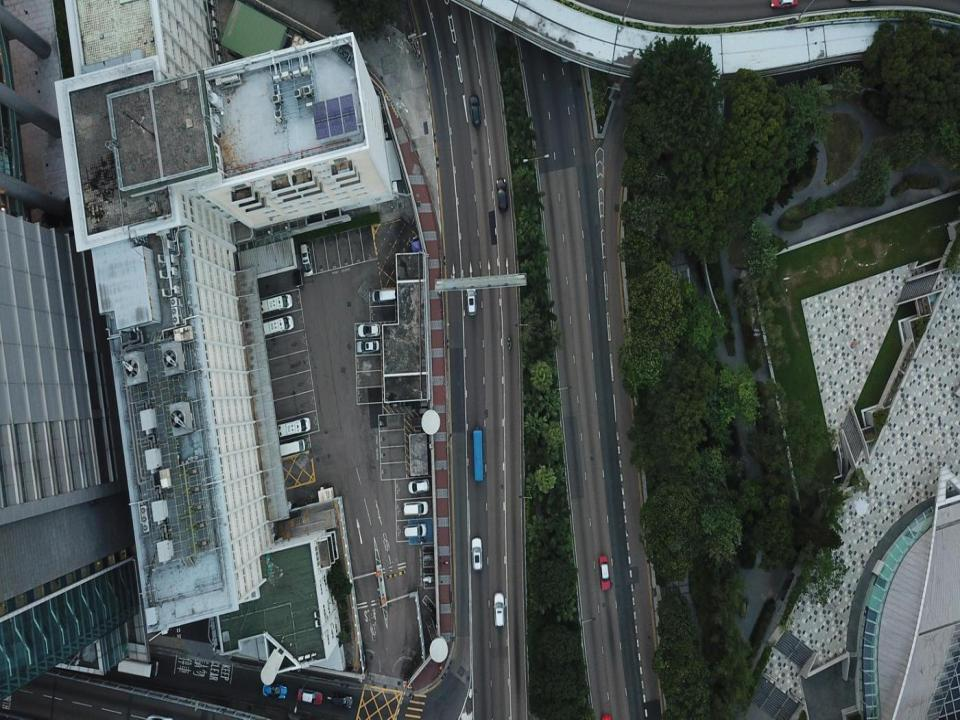bus: (472, 426, 486, 485)
car: (324, 690, 353, 710), (468, 92, 482, 131), (496, 175, 509, 213), (469, 537, 483, 571), (598, 555, 610, 592), (355, 324, 383, 339), (494, 593, 506, 628), (297, 690, 323, 705), (263, 683, 286, 699), (356, 339, 380, 354), (406, 481, 429, 496), (466, 285, 477, 315), (769, 0, 802, 10), (602, 714, 611, 719)
van: (114, 657, 160, 677), (258, 316, 295, 336), (278, 417, 312, 437), (297, 242, 314, 279), (259, 294, 292, 313), (278, 440, 307, 456), (400, 500, 428, 516), (369, 288, 397, 303), (404, 526, 426, 538)
